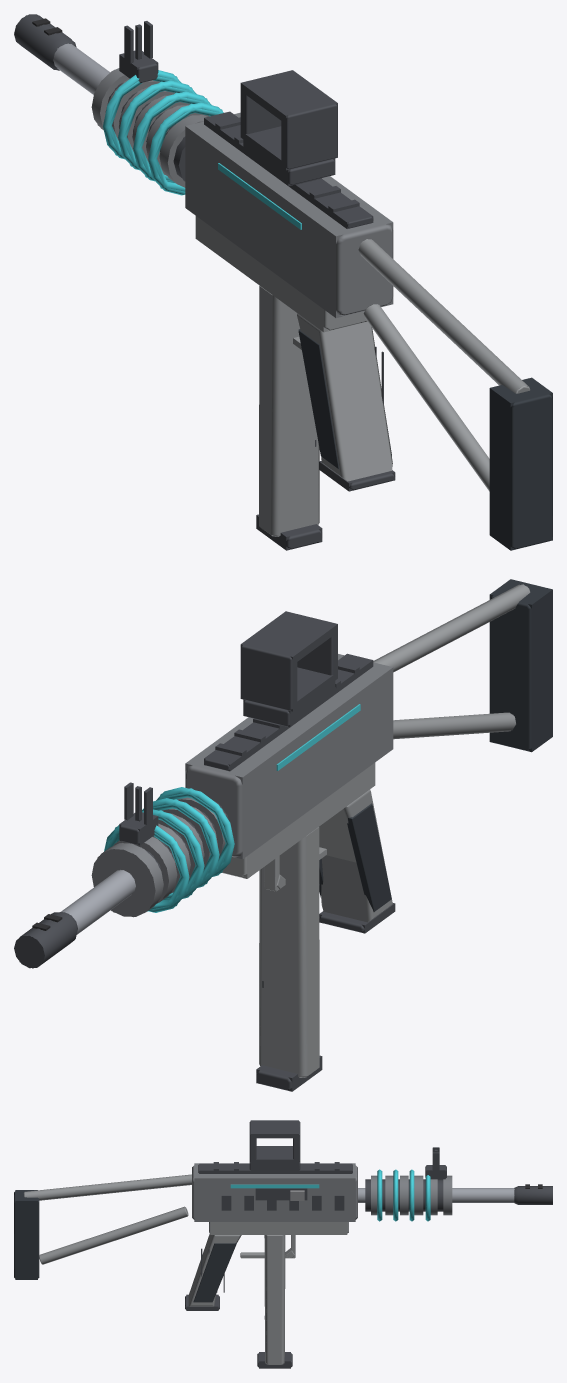
Rendered from s_static.glb.
3 views of the same model, one above another, from view 1: azimuth 30°, elevation 25°; view 2: azimuth 150°, elevation 25°; view 3: azimuth 270°, elevation 25° (orthographic). The views are drawn at different scales.
Visible parts, largest first — view 1: L0, L1; view 2: L0, L1; view 3: L0, L1.
Part boxes in pixels (x1=…): L0: x1=14, y1=14, x2=552, y2=549; L1: x1=15, y1=15, x2=552, y2=550; L0: x1=14, y1=580, x2=552, y2=1090; L1: x1=14, y1=579, x2=552, y2=1091; L0: x1=14, y1=1121, x2=552, y2=1367; L1: x1=15, y1=1120, x2=552, y2=1368.
Size of the model in its own units: 0.0664 by 0.324 by 0.6688.
